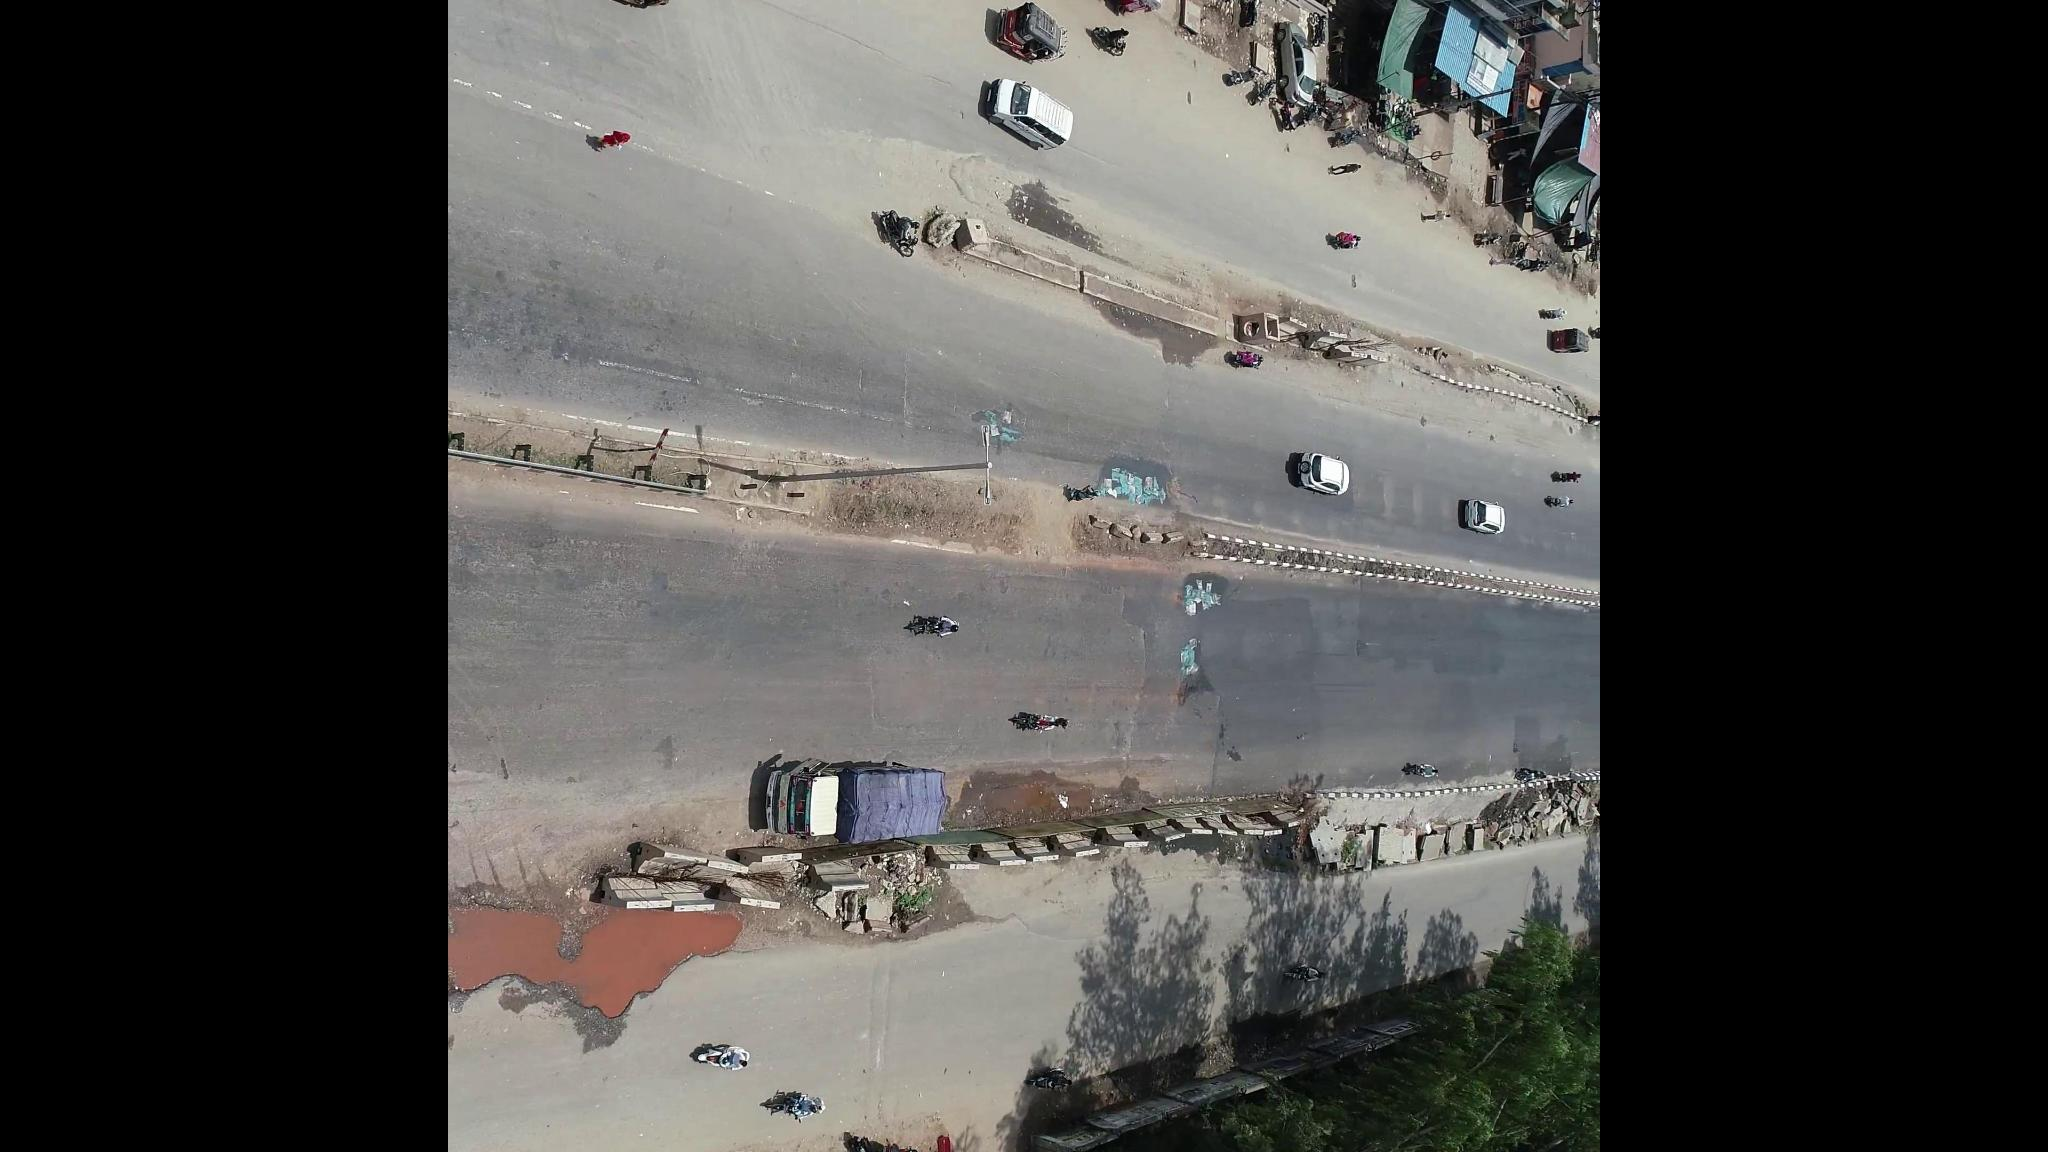Potholes: (454, 900, 672, 1023)
